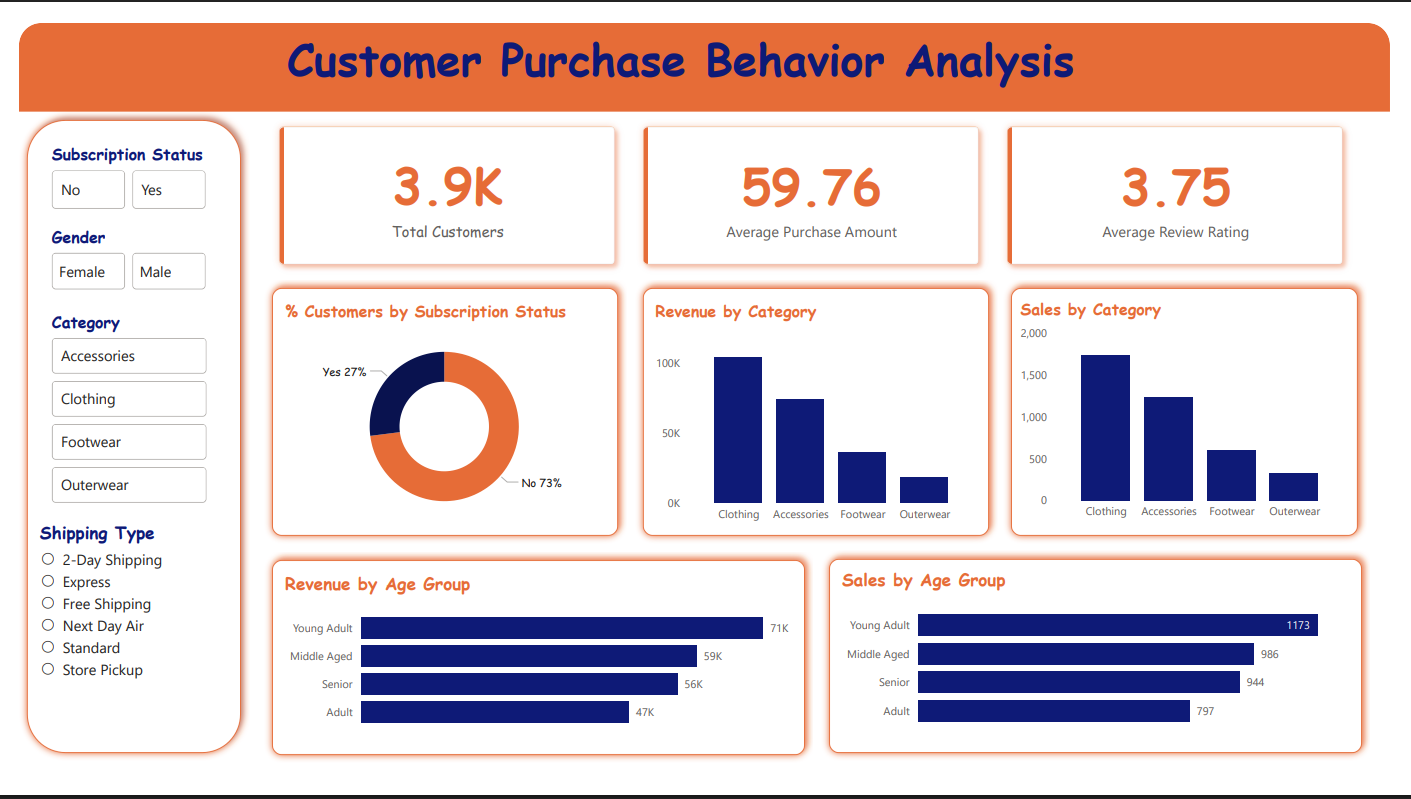

Layout of this report page (visuals, bound fields, positions):
{"tool":"powerbi","page":{"name":"Page 1","canvas":[1500,820],"ordinal":0},"visuals":[{"type":"shape","box":[0,0,1499.3,97.4],"z":0},{"type":"textbox","box":[64.2,0,1319.9,97.4],"z":1},{"type":"cardVisual","fields":{"Data":["Count(customer_behaviour customers.customer_id)","Avg(customer_behaviour customers.purchase_amount)","Avg(customer_behaviour customers.review_rating)"]},"box":[268,97.4,1198.1,183.8],"z":2},{"type":"shape","box":[268,281.3,396.4,287.9],"z":3},{"type":"shape","box":[673.2,281.3,396.4,287.9],"z":4},{"type":"shape","box":[1076.3,281.3,396.4,287.9],"z":5},{"type":"shape","box":[268,578,600.2,230.3],"z":6},{"type":"shape","box":[877,575.8,600.2,230.3],"z":7},{"type":"donutChart","title":"% Customers by Subscription Status","fields":{"Category":["customer_behaviour customers.subscription_status"],"Y":["Count(customer_behaviour customers.customer_id)"]},"box":[285.7,296.8,358.8,256.9],"z":8},{"type":"clusteredColumnChart","title":"Revenue by Category","fields":{"Y":["Sum(customer_behaviour customers.purchase_amount)"],"Category":["customer_behaviour customers.category"]},"box":[691,296.8,358.8,256.9],"z":9},{"type":"clusteredColumnChart","title":"Sales by Category","fields":{"Y":["CountNonNull(customer_behaviour customers.customer_id)"],"Category":["customer_behaviour customers.category"]},"box":[1094,294.5,361,256.9],"z":10},{"type":"clusteredBarChart","title":"Revenue by Age Group","fields":{"Category":["customer_behaviour customers.age_group"],"Y":["Sum(customer_behaviour customers.purchase_amount)"]},"box":[285.7,597.9,562.5,183.8],"z":11},{"type":"clusteredBarChart","title":"Sales by Age Group","fields":{"Category":["customer_behaviour customers.age_group"],"Y":["CountNonNull(customer_behaviour customers.customer_id)"]},"box":[894.7,593.5,562.5,188.2],"z":12},{"type":"shape","box":[0,97.4,252.5,708.7],"z":13},{"type":"advancedSlicerVisual","fields":{"Values":["customer_behaviour customers.subscription_status"]},"box":[31,130.7,179.4,77.5],"z":14},{"type":"advancedSlicerVisual","fields":{"Values":["customer_behaviour customers.gender"]},"box":[31,221.5,179.4,75.3],"z":15},{"type":"advancedSlicerVisual","fields":{"Values":["customer_behaviour customers.category"]},"box":[31,314.5,179.4,214.8],"z":16},{"type":"listSlicer","fields":{"Values":["customer_behaviour customers.shipping_type"]},"box":[17.7,542.6,212.6,228.1],"z":17}]}

Visuals, with their boxes on the page's 1500x820 design canvas (x1, y1, x2, y2). These are canvas units, not pixel positions in the 1411x799 screenshot, which may show the page scaled, cropped or inside an application window:
shape: (left=0, top=0, right=1499, bottom=97)
textbox: (left=64, top=0, right=1384, bottom=97)
cardVisual - Count(customer_behaviour customers.customer_id) x Avg(customer_behaviour customers.purchase_amount): (left=268, top=97, right=1466, bottom=281)
shape: (left=268, top=281, right=664, bottom=569)
shape: (left=673, top=281, right=1070, bottom=569)
shape: (left=1076, top=281, right=1473, bottom=569)
shape: (left=268, top=578, right=868, bottom=808)
shape: (left=877, top=576, right=1477, bottom=806)
"% Customers by Subscription Status" donutChart: (left=286, top=297, right=644, bottom=554)
"Revenue by Category" clusteredColumnChart: (left=691, top=297, right=1050, bottom=554)
"Sales by Category" clusteredColumnChart: (left=1094, top=294, right=1455, bottom=551)
"Revenue by Age Group" clusteredBarChart: (left=286, top=598, right=848, bottom=782)
"Sales by Age Group" clusteredBarChart: (left=895, top=594, right=1457, bottom=782)
shape: (left=0, top=97, right=252, bottom=806)
advancedSlicerVisual - customer_behaviour customers.subscription_status: (left=31, top=131, right=210, bottom=208)
advancedSlicerVisual - customer_behaviour customers.gender: (left=31, top=222, right=210, bottom=297)
advancedSlicerVisual - customer_behaviour customers.category: (left=31, top=314, right=210, bottom=529)
listSlicer - customer_behaviour customers.shipping_type: (left=18, top=543, right=230, bottom=771)
